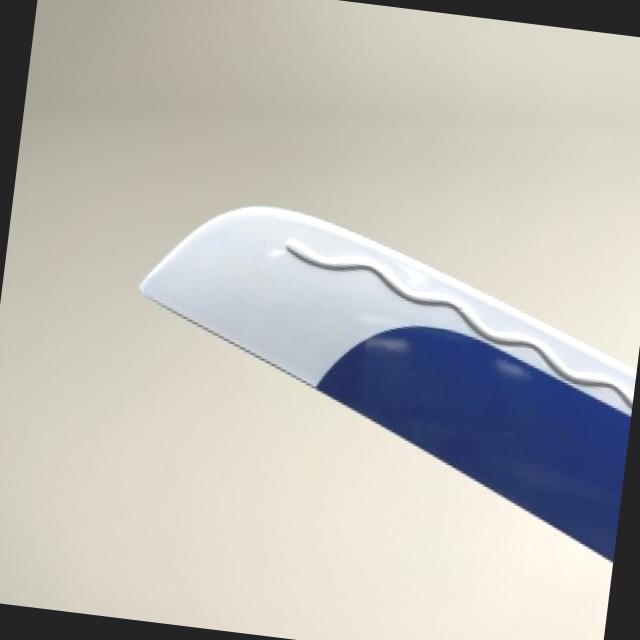healthy: (139, 209, 634, 556)
